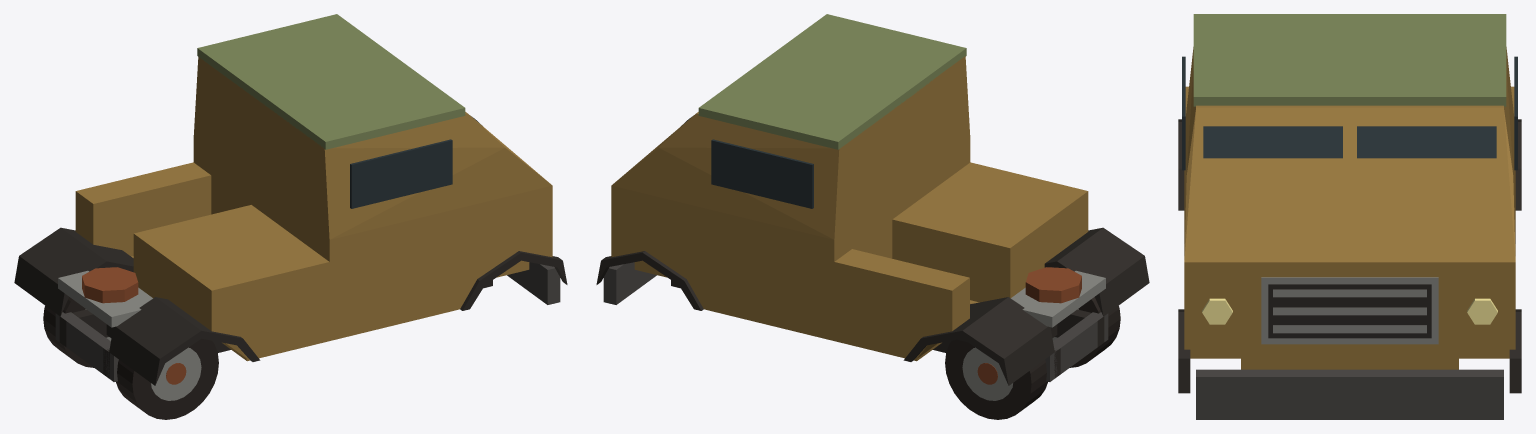
File: base_sorokonoga.glb
The picture shows the model from 3 angles, left to right: view 1: azimuth 30°, elevation 25°; view 2: azimuth 150°, elevation 25°; view 3: azimuth 270°, elevation 25°; orthographic projection. The views are drawn at different scales.
Parts seen in each view (by area): view 1: base_sorokonoga; view 2: base_sorokonoga; view 3: base_sorokonoga.
Boxes of the visible parts, left/top/right/bottom form: base_sorokonoga: left=14, top=14, right=567, bottom=419; base_sorokonoga: left=596, top=14, right=1149, bottom=419; base_sorokonoga: left=1178, top=14, right=1521, bottom=419.
Size of the model in its own units: 4.9 by 2.94 by 2.9.
